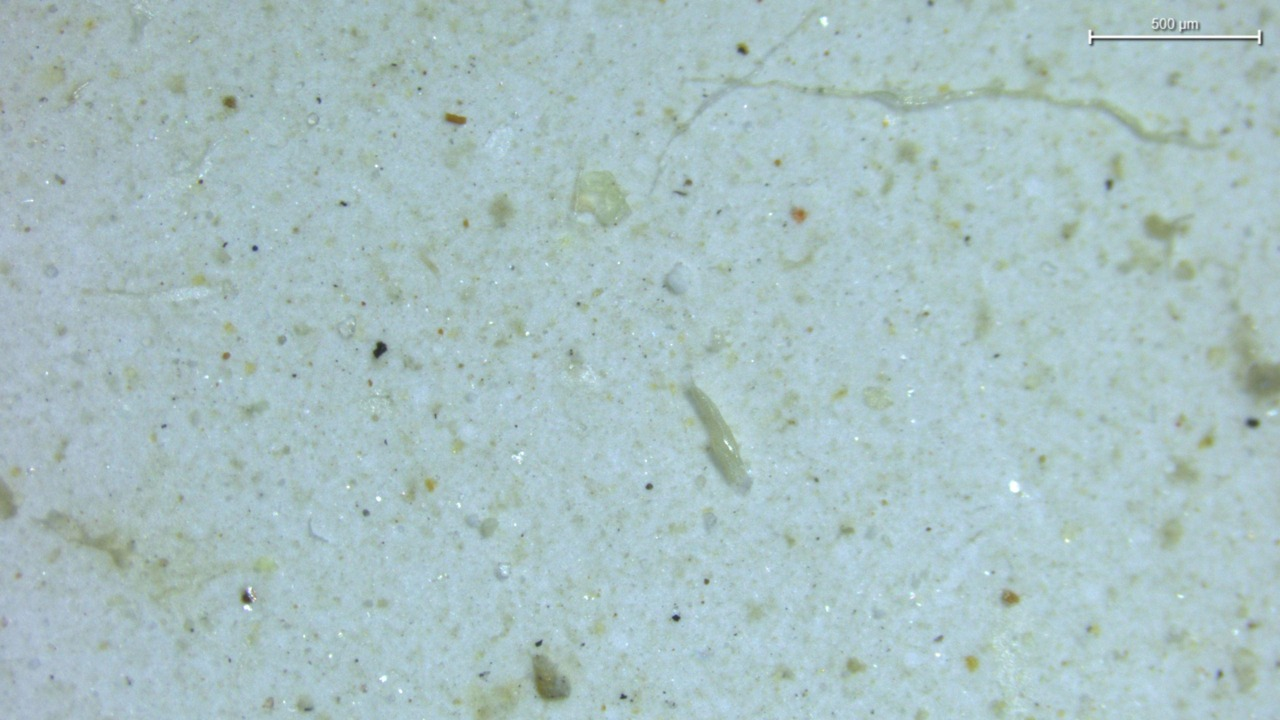microplastic_fragment: (686, 381, 751, 493), (574, 171, 630, 226), (532, 655, 571, 700), (663, 262, 695, 295)
